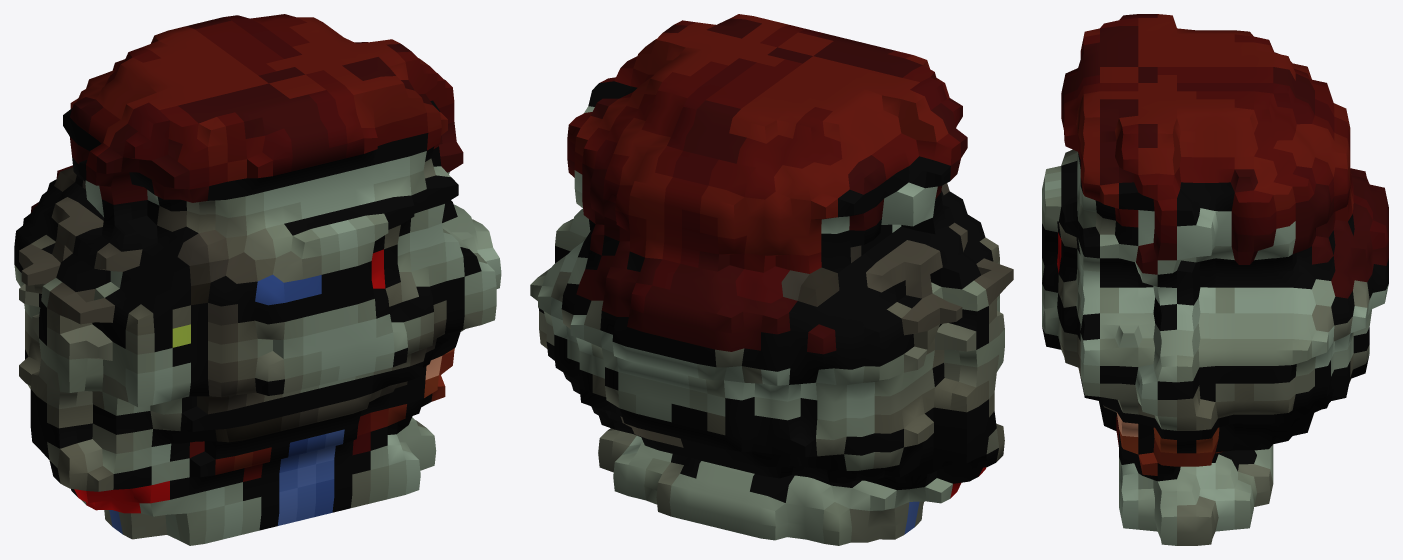
Rendered from Icon_739_02.obj.
3 views of the same model, side by side, from view 1: azimuth 30°, elevation 25°; view 2: azimuth 150°, elevation 25°; view 3: azimuth 270°, elevation 25° (orthographic). The views are drawn at different scales.
Size of the model in its own units: 2.4 by 2.3 by 1.8.
1 material, 1 textured.
